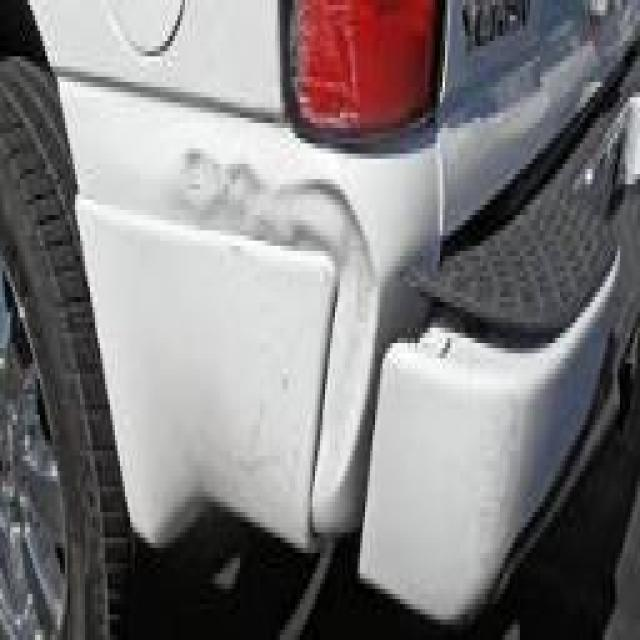Bumper: (156, 128, 389, 531)
